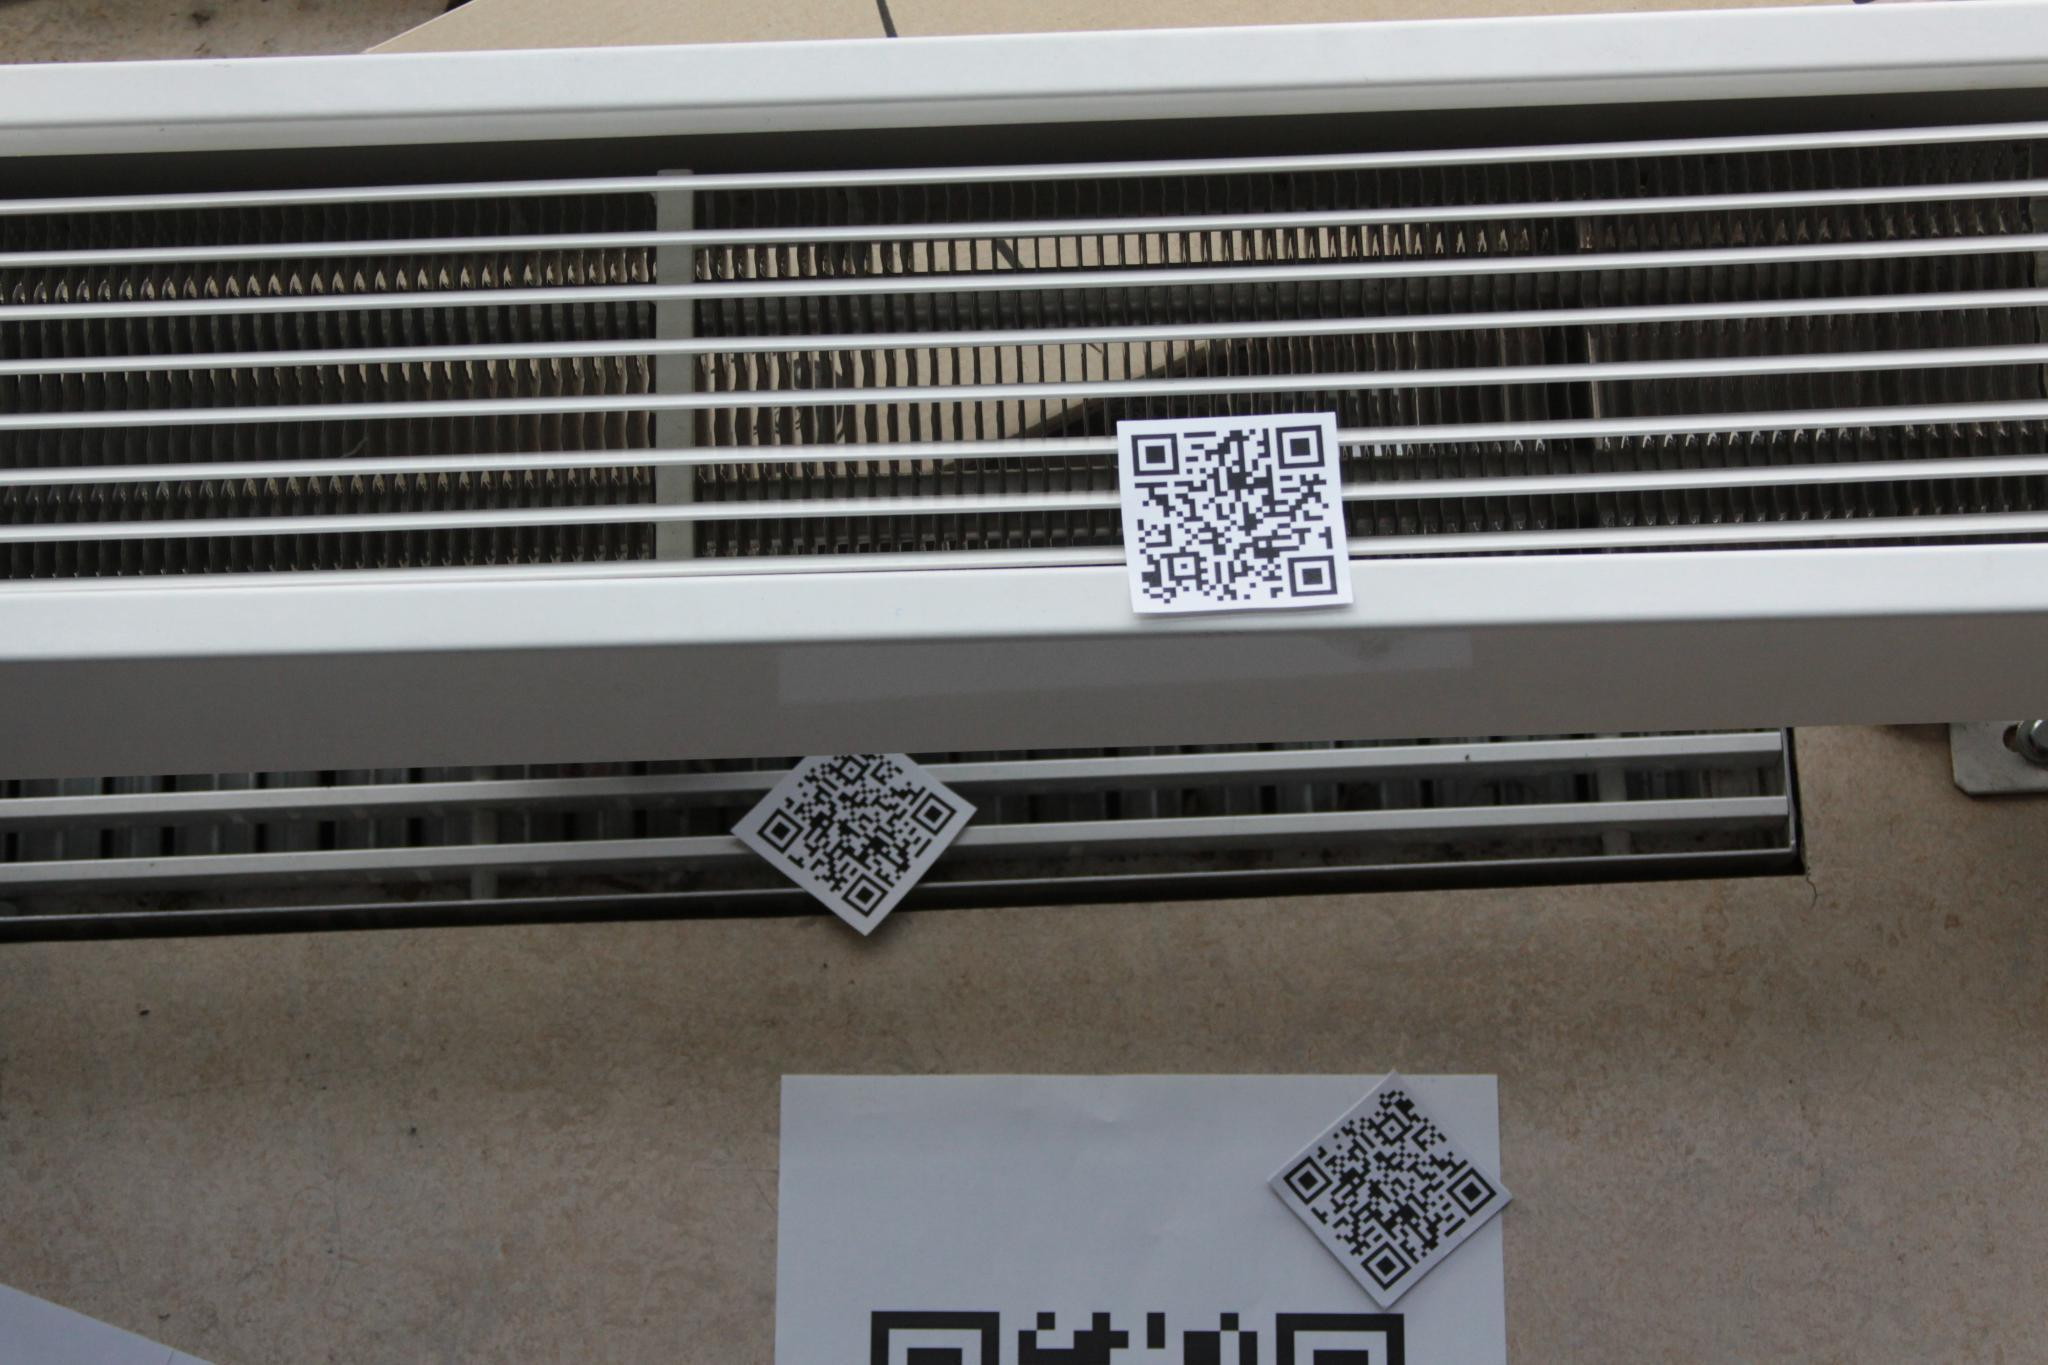qr_code: (1282, 1088, 1498, 1292), (1133, 425, 1338, 603), (757, 753, 958, 917), (871, 1310, 1404, 1365)
